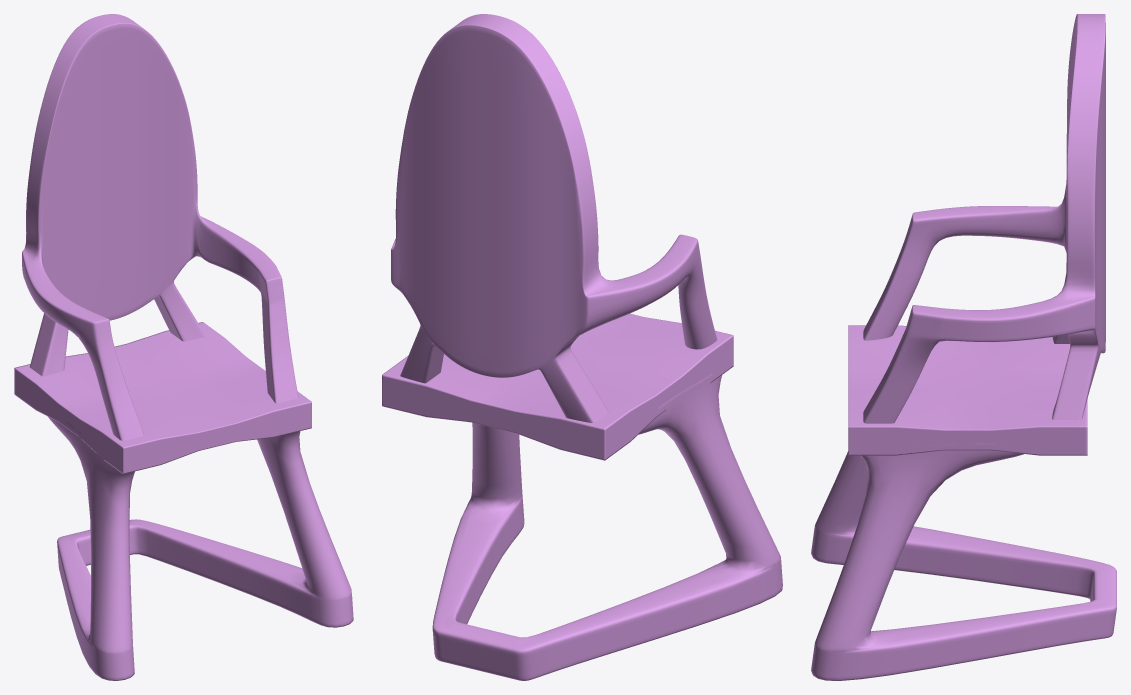
The model's file is chair_d9a81a38.glb.
The picture shows the model from 3 angles, left to right: view 1: azimuth 30°, elevation 25°; view 2: azimuth 150°, elevation 25°; view 3: azimuth 270°, elevation 25°; orthographic projection. The views are drawn at different scales.
Visible parts, largest first — view 1: Object_2; view 2: Object_2; view 3: Object_2.
Boxes of the visible parts, x1,y1,x2,y2 form: Object_2: [14, 14, 353, 680]; Object_2: [382, 14, 782, 680]; Object_2: [811, 14, 1116, 680].
Bounding box in the file's own units: 1.24 × 2.54 × 1.18.
